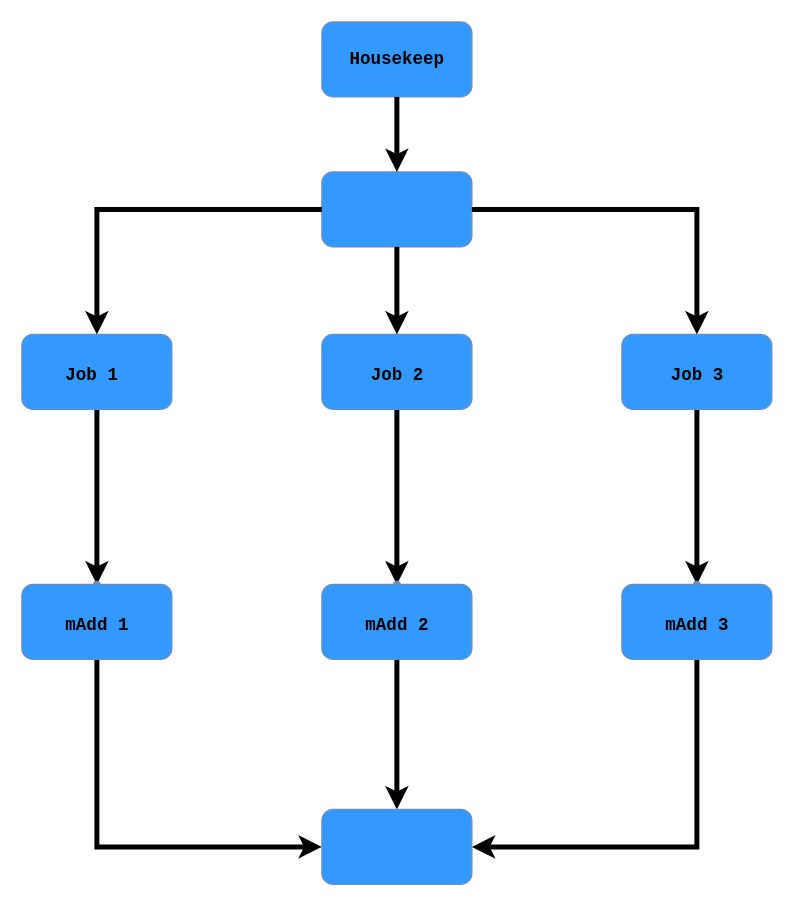
Image size: 794x906. Some labels were removed from this diagram. The shapes that lost their labels are listed below. From the top down, each one's centre as x and y in pixels, then its label:
the point at 396,209: mHdr
the point at 396,846: mViewer
